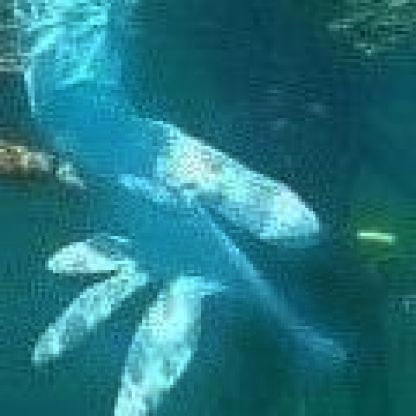glove: (11, 0, 354, 413)
